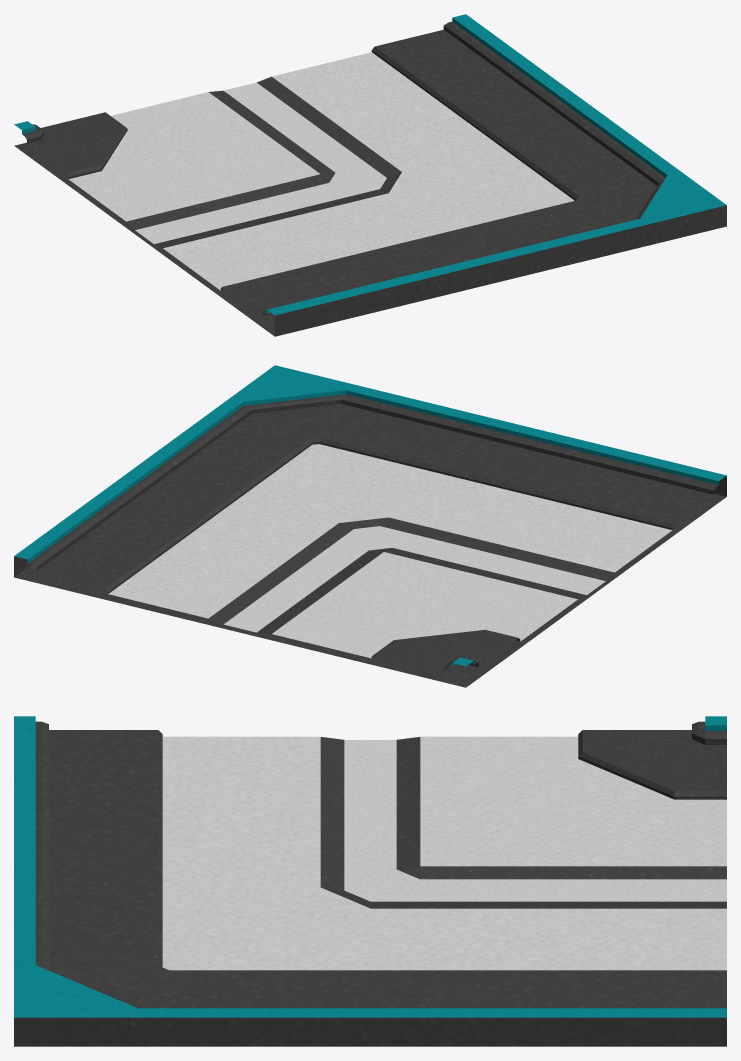
File: Floor_1_LShape_Blank_LOD0.fbx
3 views of the same model, one above another, from view 1: azimuth 30°, elevation 25°; view 2: azimuth 150°, elevation 25°; view 3: azimuth 270°, elevation 25° (orthographic). The views are drawn at different scales.
Visible parts, largest first — view 1: Floor_1_LShape_Blank_LOD0; view 2: Floor_1_LShape_Blank_LOD0; view 3: Floor_1_LShape_Blank_LOD0.
Part boxes in pixels (bbox=[...]): Floor_1_LShape_Blank_LOD0: bbox=[14, 14, 726, 336]; Floor_1_LShape_Blank_LOD0: bbox=[14, 365, 726, 687]; Floor_1_LShape_Blank_LOD0: bbox=[14, 716, 726, 1046].
Bounding box in the file's own units: 200 × 9 × 200.
